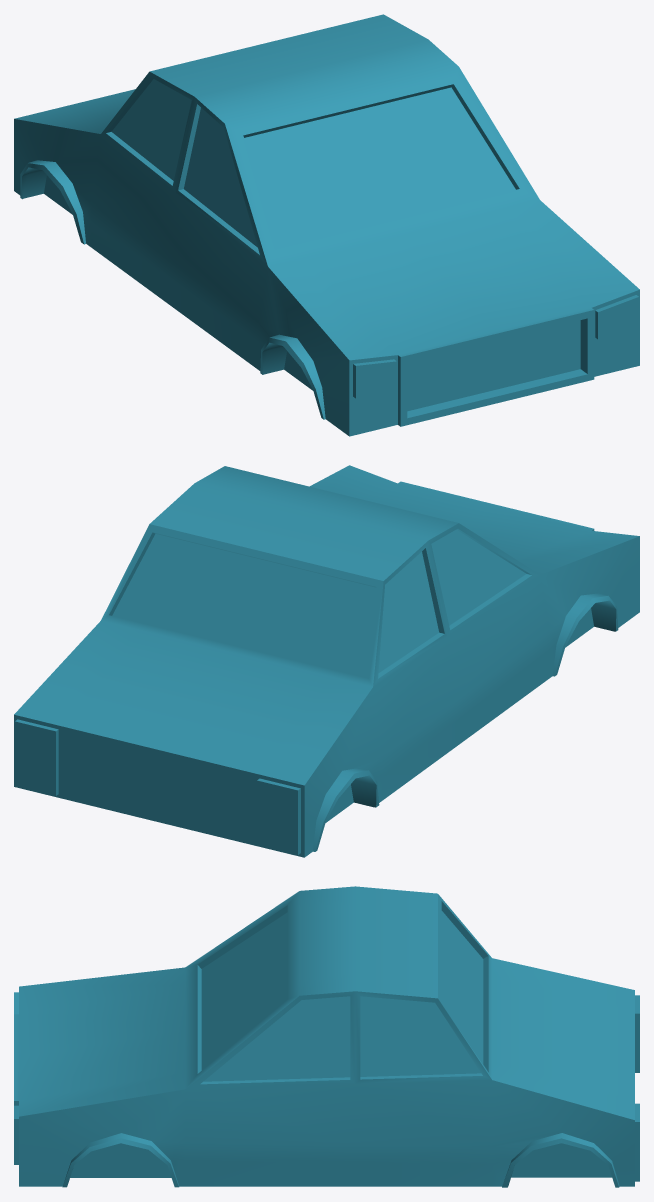
Rendered from Car_Base.FBX.
3 views of the same model, one above another, from view 1: azimuth 30°, elevation 25°; view 2: azimuth 150°, elevation 25°; view 3: azimuth 270°, elevation 25° (orthographic). The views are drawn at different scales.
Visible parts, largest first — view 1: Car_low; view 2: Car_low; view 3: Car_low.
Part boxes in pixels (x1,y1,x2,y2): Car_low: (14, 14, 639, 436); Car_low: (14, 465, 639, 857); Car_low: (14, 886, 639, 1187).
Size of the model in its own units: 21.19 by 12.89 by 40.02.
